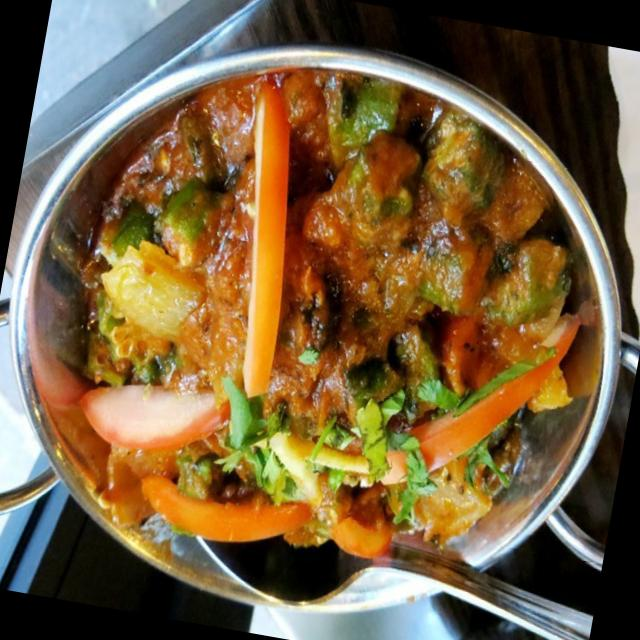BhindiMasala: (37, 30, 622, 598)
